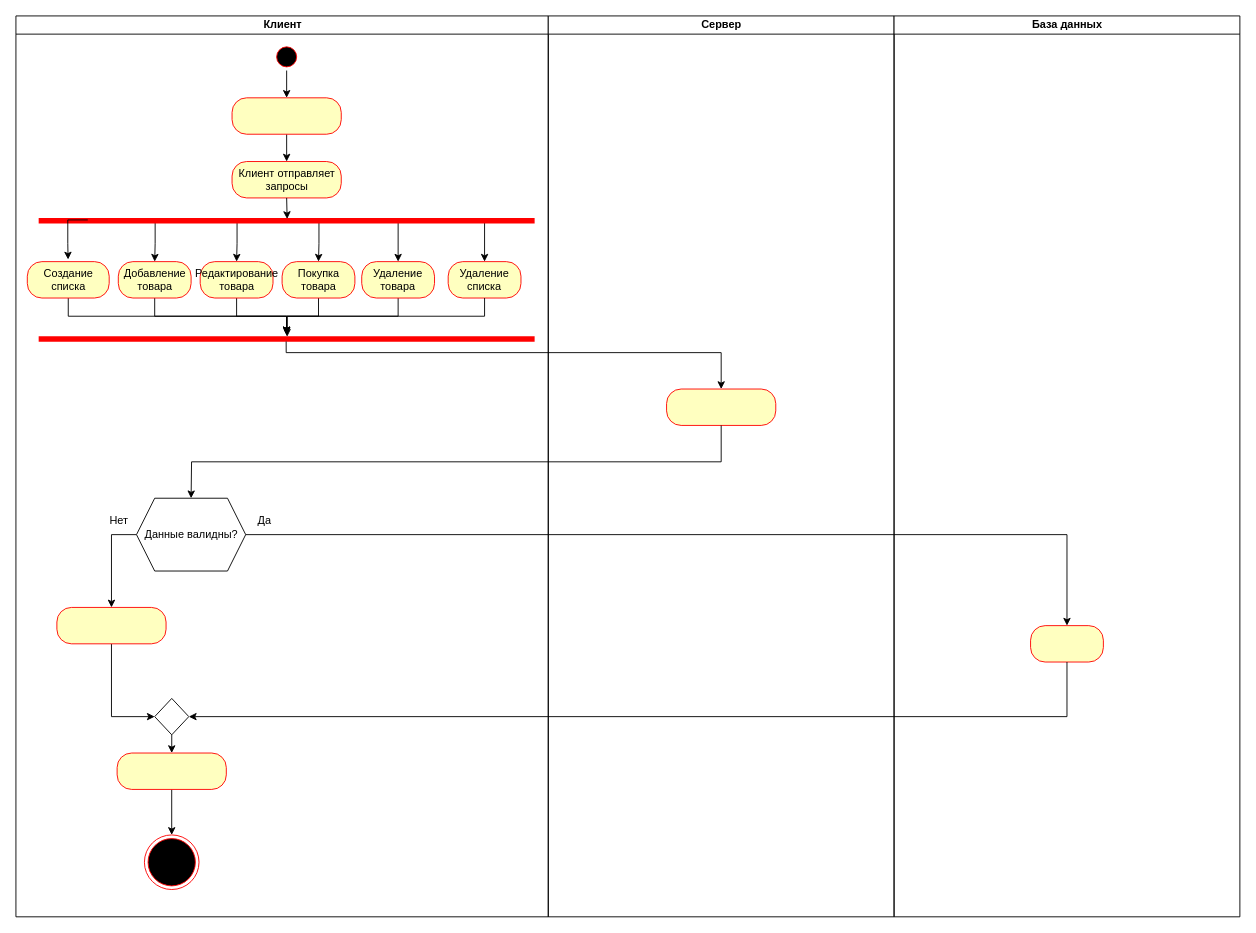
Image size: 1256x933. Some labels were removed from this diagram. The centre of each missing label's shape, as x and y in pixels:
"Возврат ошибки клиенту" belongs at pixel 111 625.
"Начало синхронизации" belongs at pixel 286 115.
"Обновление базы данных" belongs at pixel 1066 643.
"Отправка ответа клиенту" belongs at pixel 171 770.
"Сервер обрабатывает запросы" belongs at pixel 721 406.
